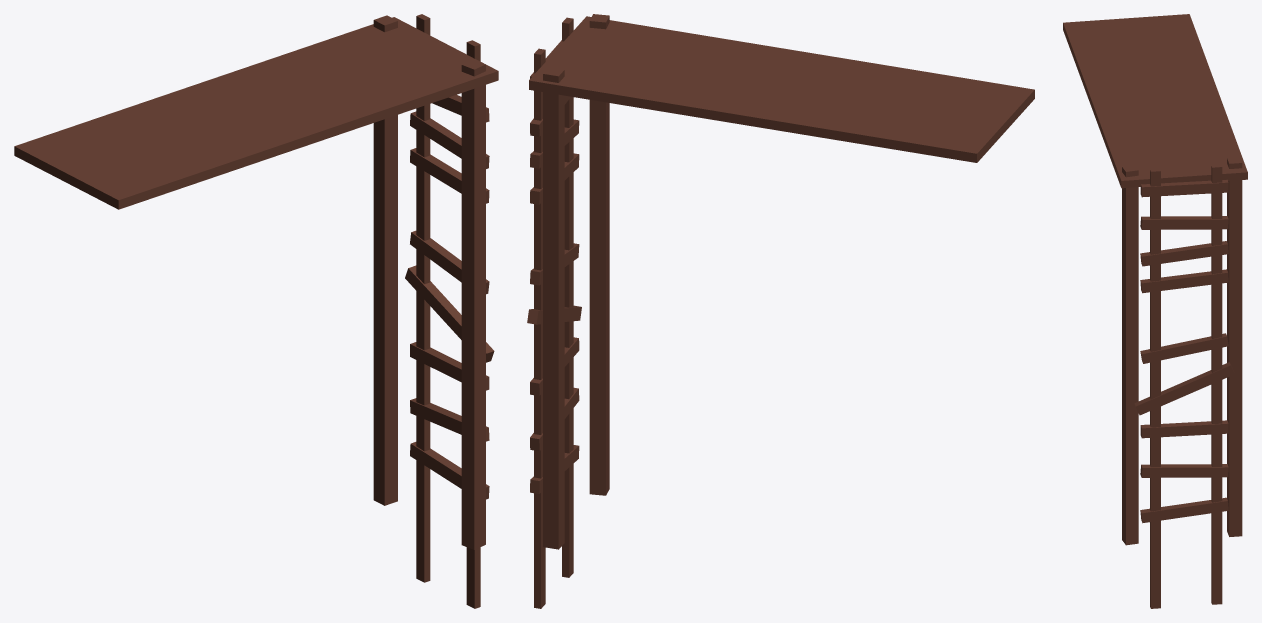
File: Escada_puzzle.gltf
3 renders of one model, left to right at view 1: azimuth 30°, elevation 25°; view 2: azimuth 150°, elevation 25°; view 3: azimuth 270°, elevation 25°, orthographic. The views are drawn at different scales.
Visible parts, largest first — view 1: Escada; view 2: Escada; view 3: Escada.
Part boxes in pixels (x1,y1,x2,y2): Escada: (14,14,498,608); Escada: (527,14,1034,608); Escada: (1063,14,1247,608).
Size of the model in its own units: 1.28 by 1.55 by 0.5925.
